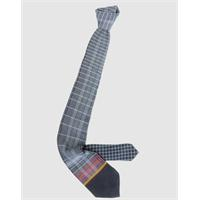tie: (57, 6, 138, 196)
